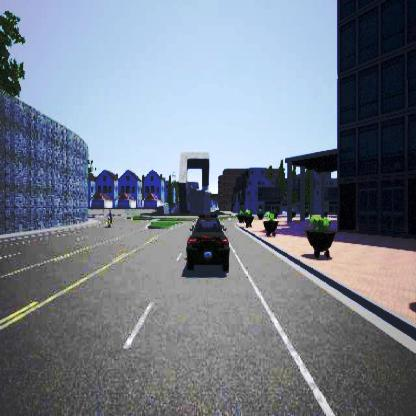bike: (106, 208, 113, 227)
vehicle: (186, 214, 229, 271)
